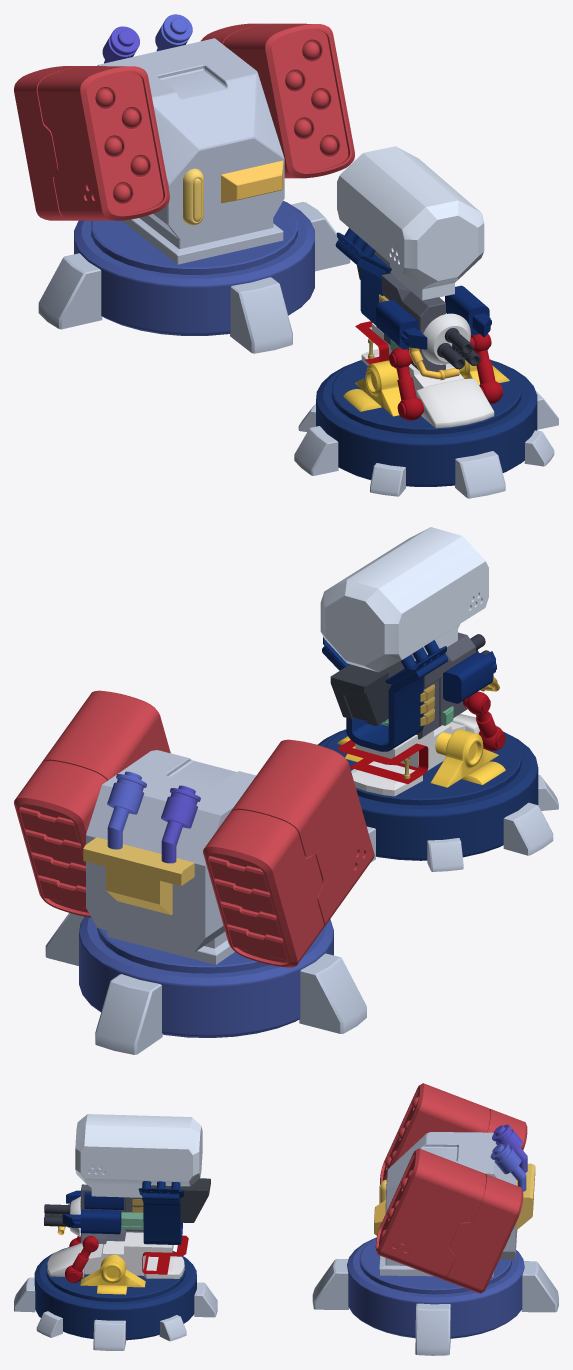
Rendered from Sub - Torret Water Set 1.1.fbx.
3 renders of one model, top to bottom at view 1: azimuth 30°, elevation 25°; view 2: azimuth 150°, elevation 25°; view 3: azimuth 270°, elevation 25°, orthographic. The views are drawn at different scales.
Visible parts, largest first — view 1: Cube.034, Cylinder.029, Cylinder.041, Cylinder.034; view 2: Cube.034, Cylinder.029, Cylinder.041, Cylinder.034; view 3: Cube.034, Cylinder.029, Cylinder.041, Cylinder.034.
Part boxes in pixels (box(x1,y1,x2,y2)): Cube.034: box(14, 14, 354, 264); Cylinder.029: box(335, 146, 509, 428); Cylinder.041: box(38, 201, 350, 353); Cylinder.034: box(294, 359, 558, 498); Cube.034: box(14, 690, 374, 967); Cylinder.029: box(320, 527, 505, 796); Cylinder.041: box(45, 913, 366, 1054); Cylinder.034: box(317, 729, 558, 871); Cube.034: box(374, 1083, 535, 1293); Cylinder.029: box(44, 1114, 210, 1294); Cylinder.041: box(312, 1237, 558, 1355); Cylinder.034: box(14, 1247, 217, 1350).
Size of the model in its own units: 526 by 442 by 1164.
